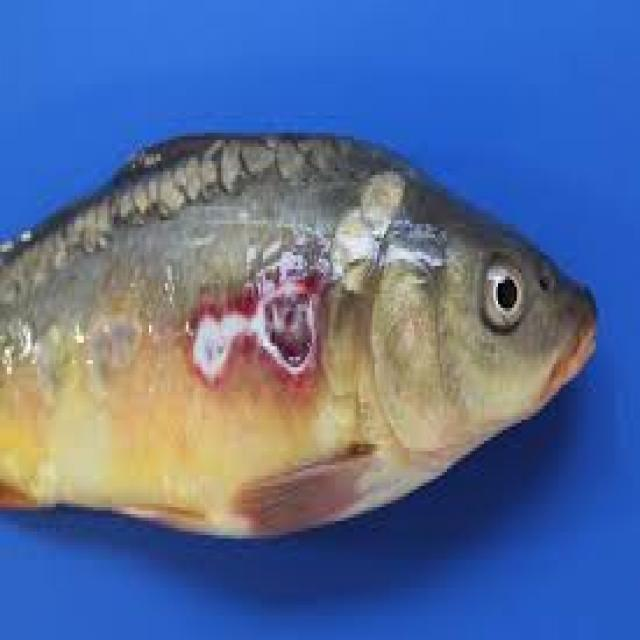EUS Disease: (0, 134, 594, 540), (156, 177, 381, 484)
